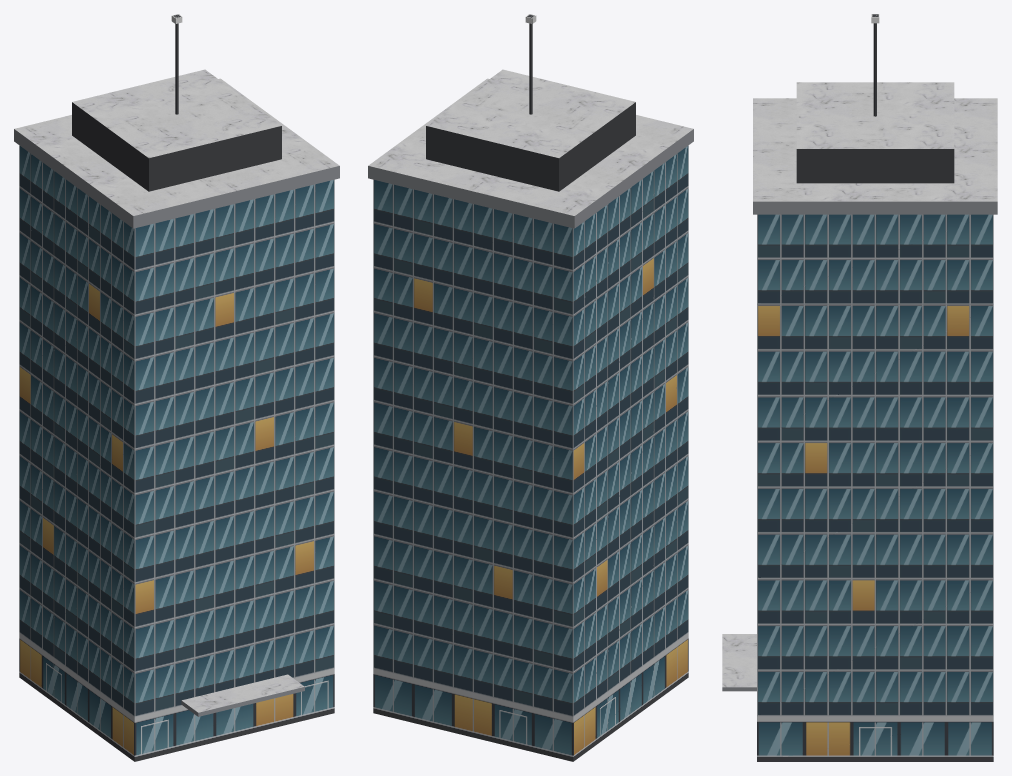
File: c_tower_office.glb
3 renders of one model, left to right at view 1: azimuth 30°, elevation 25°; view 2: azimuth 150°, elevation 25°; view 3: azimuth 270°, elevation 25°, orthographic. The views are drawn at different scales.
Parts seen in each view (by area): view 1: House; view 2: House; view 3: House.
Part boxes in pixels (<box>): House: <box>14,14,339,761</box>; House: <box>368,14,693,761</box>; House: <box>722,14,997,761</box>.
Bounding box in the file's own units: 15.5 × 48.7 × 17.45.
4 materials, 3 textured.
